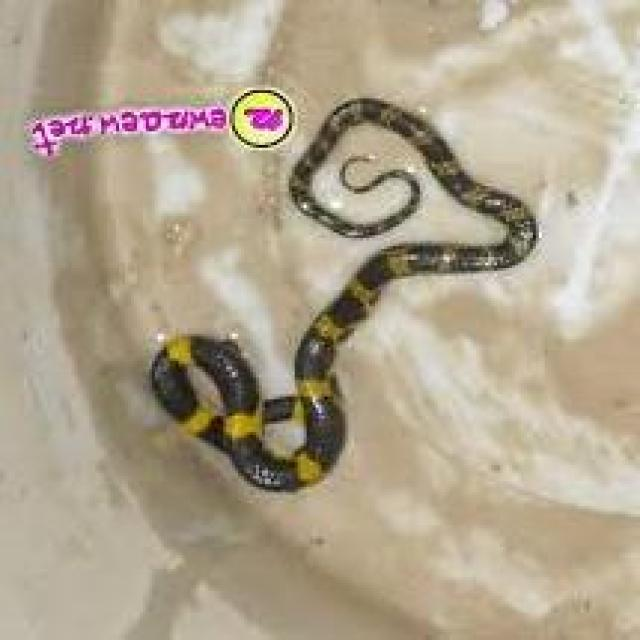Venomous: (170, 348, 345, 486)
